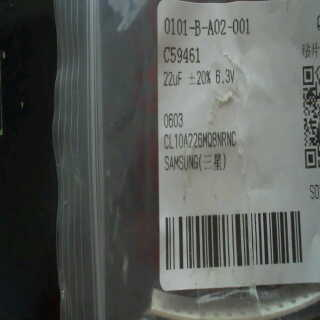22uF: (160, 67, 184, 91)
